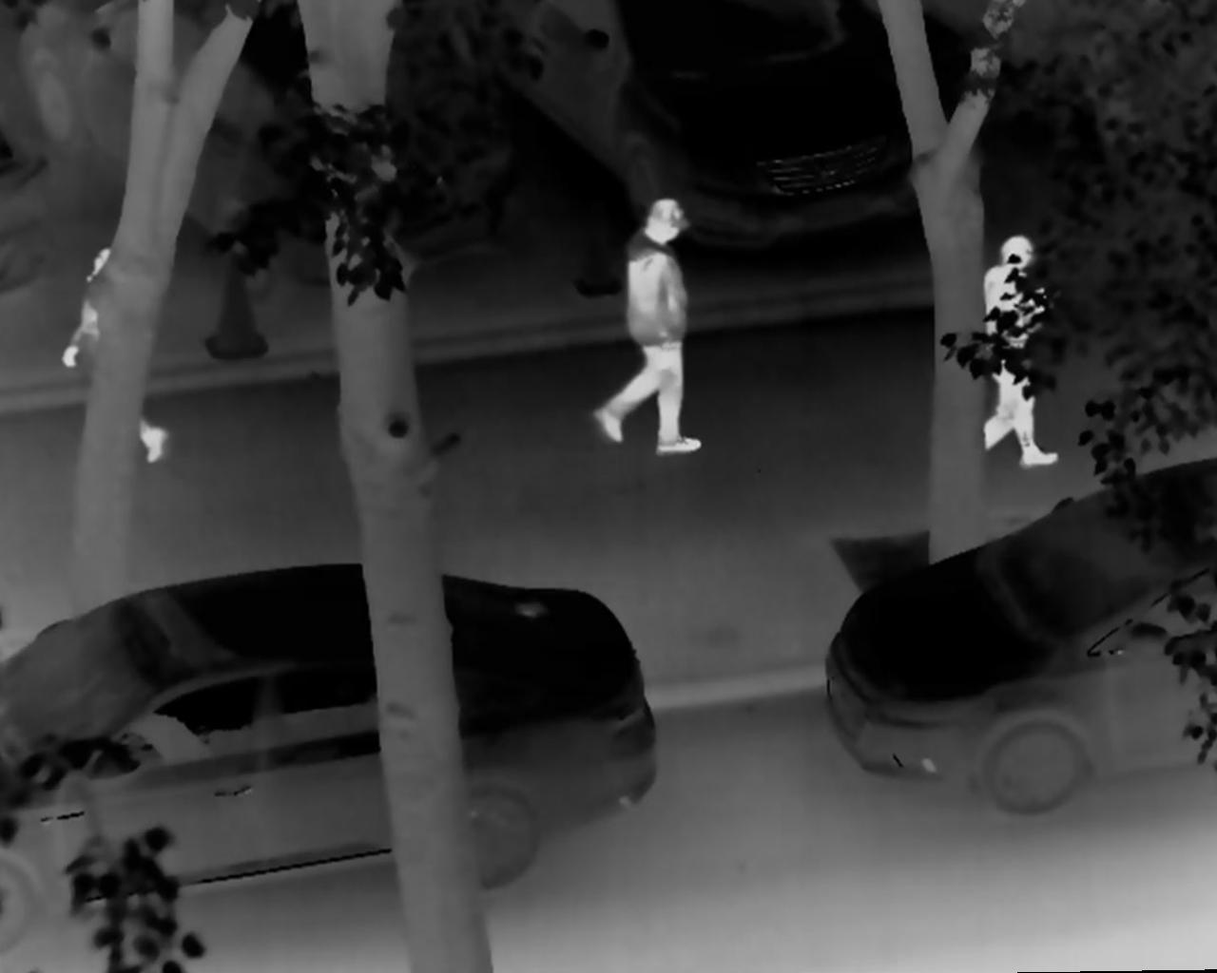person: (575, 186, 710, 458), (52, 232, 172, 467), (956, 229, 1063, 470)
